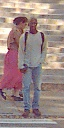person: (18, 14, 48, 114)
